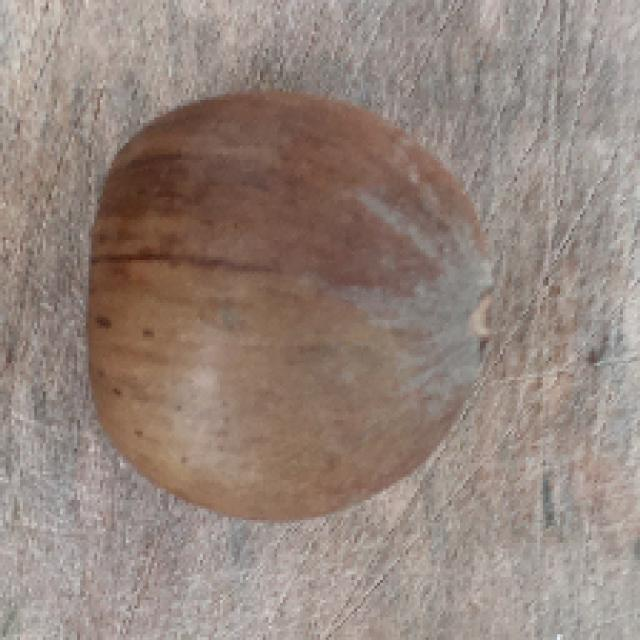qualityHazelnut: (73, 88, 505, 536)
